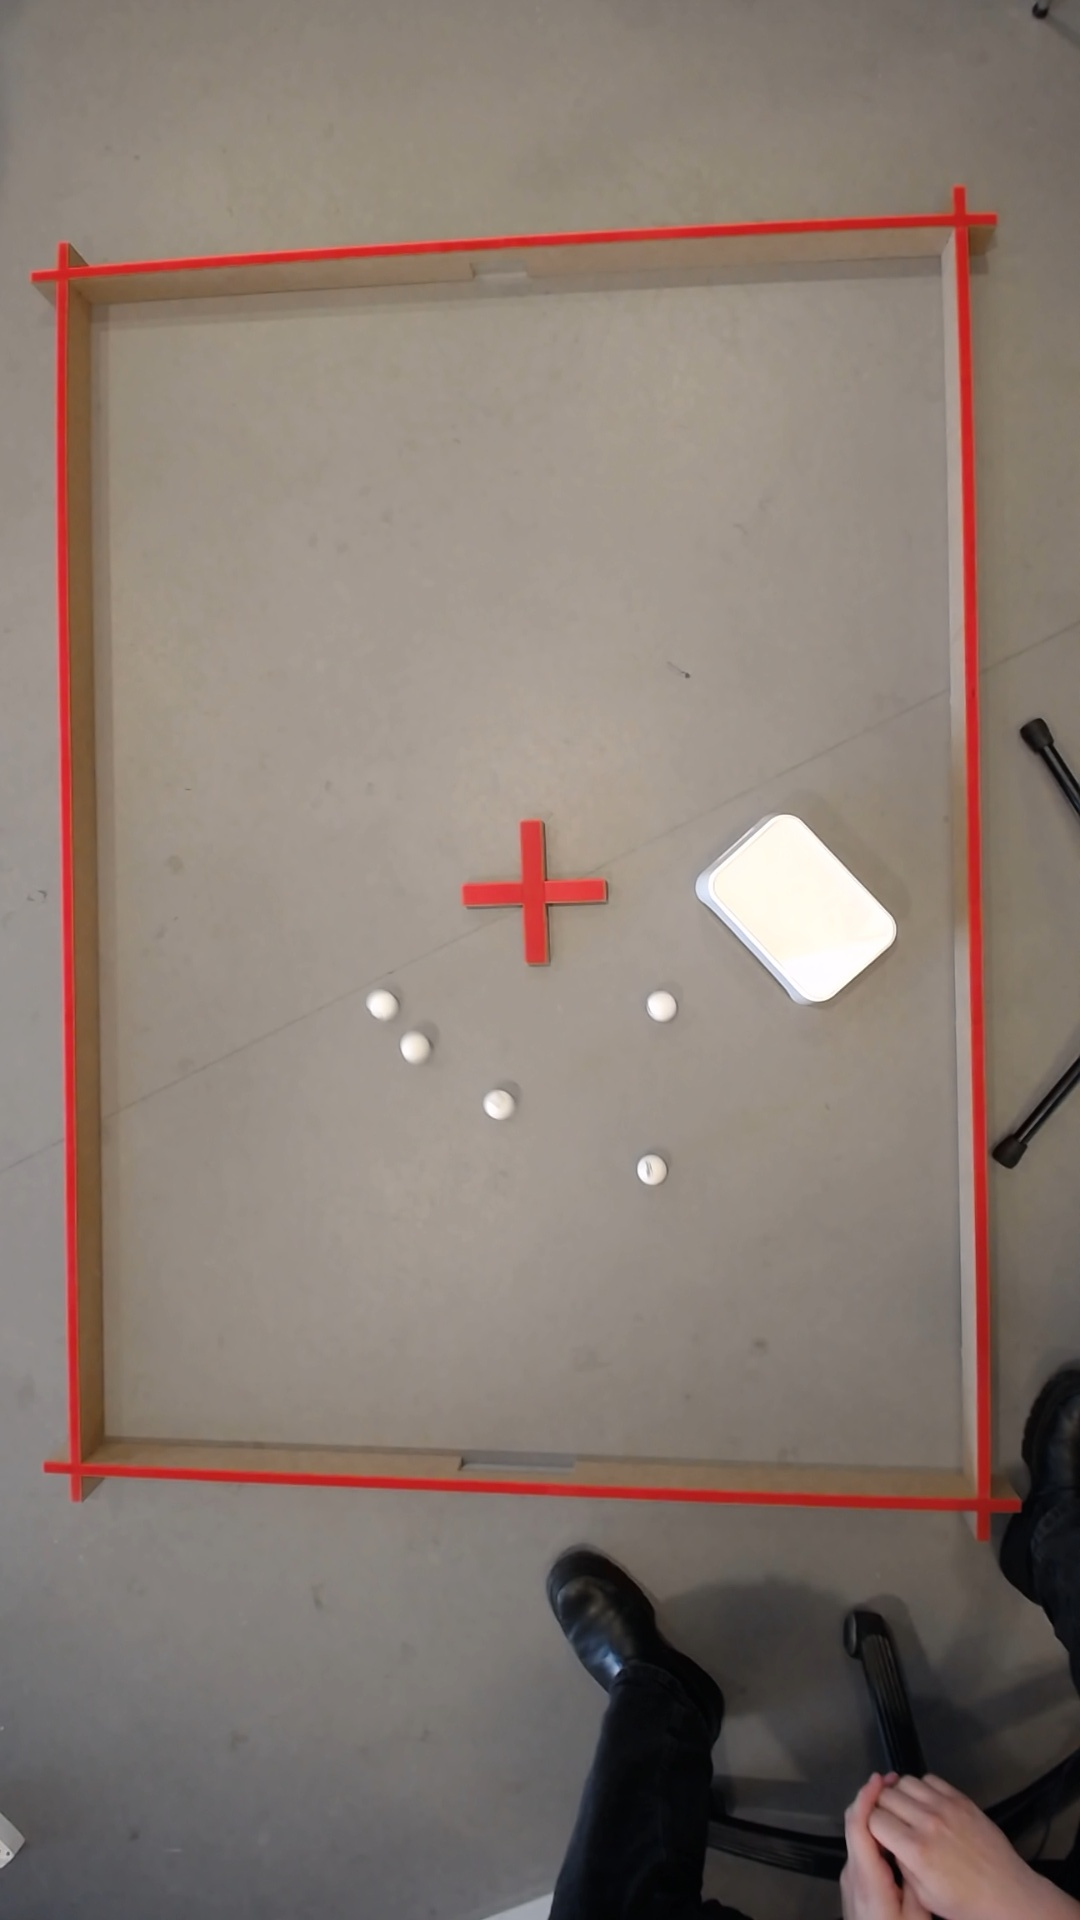balls: (687, 798, 905, 1018), (868, 1818, 923, 1871), (361, 985, 398, 1022), (641, 986, 678, 1022), (479, 1085, 514, 1121), (632, 1151, 666, 1187), (396, 1030, 427, 1063)
car: (848, 1832, 869, 1869)
